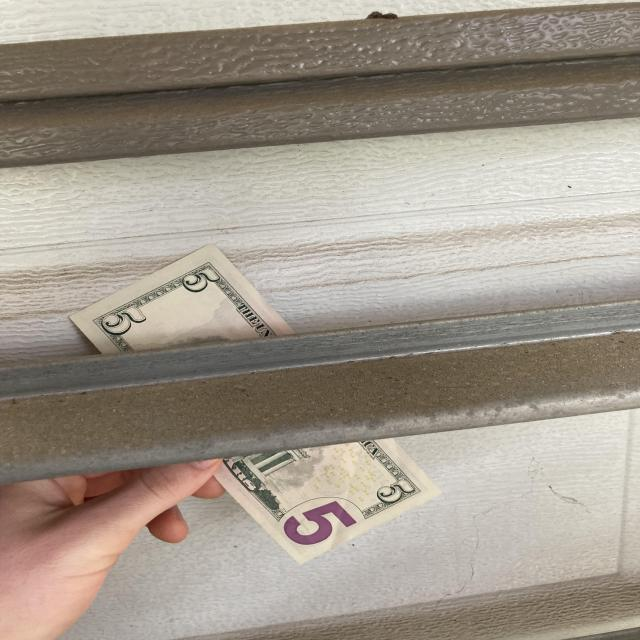five: (68, 211, 443, 598)
